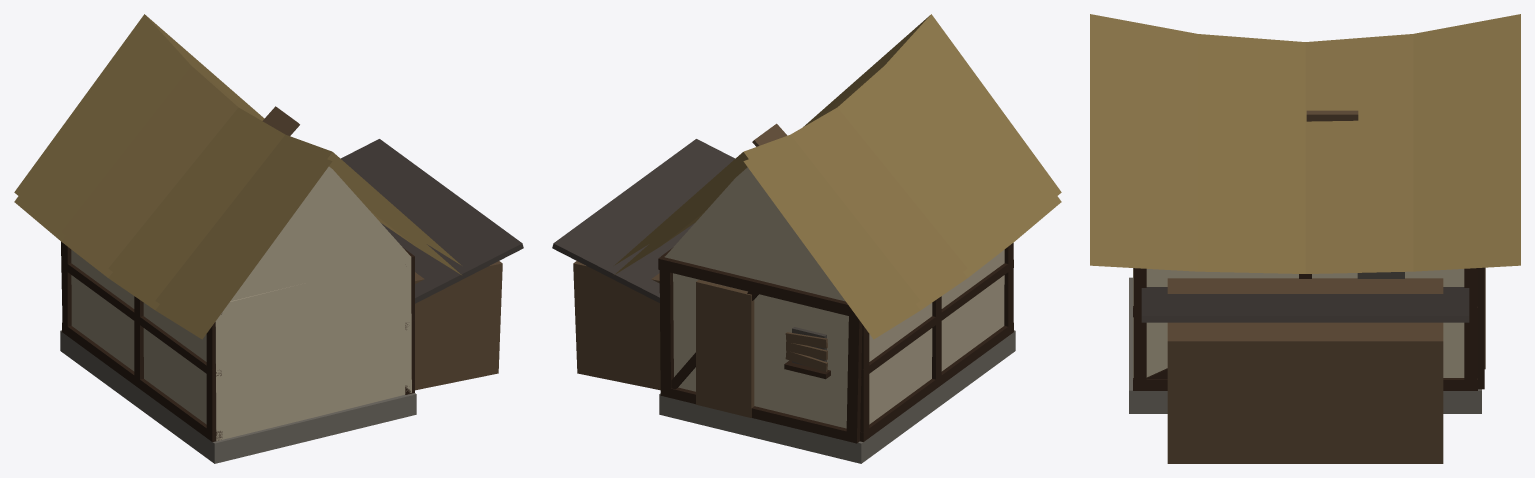
The model's file is house_hovel_b.glb.
3 views of the same model, side by side, from view 1: azimuth 30°, elevation 25°; view 2: azimuth 150°, elevation 25°; view 3: azimuth 270°, elevation 25° (orthographic). The views are drawn at different scales.
Visible parts, largest first — view 1: house_hovel_b; view 2: house_hovel_b; view 3: house_hovel_b.
Part boxes in pixels (x1,y1,x2,y2): house_hovel_b: (14, 14, 523, 463); house_hovel_b: (552, 14, 1061, 463); house_hovel_b: (1090, 14, 1520, 463).
Size of the model in its own units: 5.28 by 4.4 by 5.
